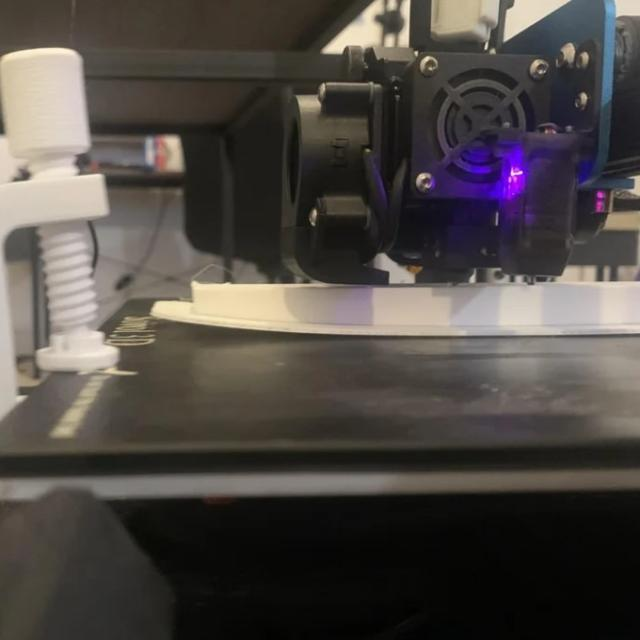Warping: (152, 300, 330, 344)
